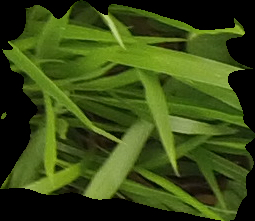grass: (1, 1, 254, 219)
